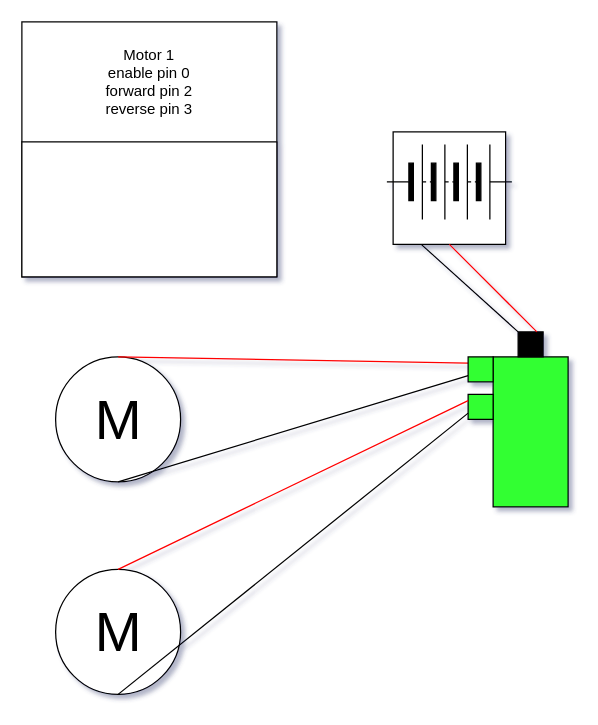
This 598x725 diagram has some shape labels left out. The centre of each missing label's shape, as x and y in pixels:
"Motor 2 enable pin 6 forward pin 4 reverse pin 5" belongs at [149,209].
"rasberry pi" belongs at [530,431].
